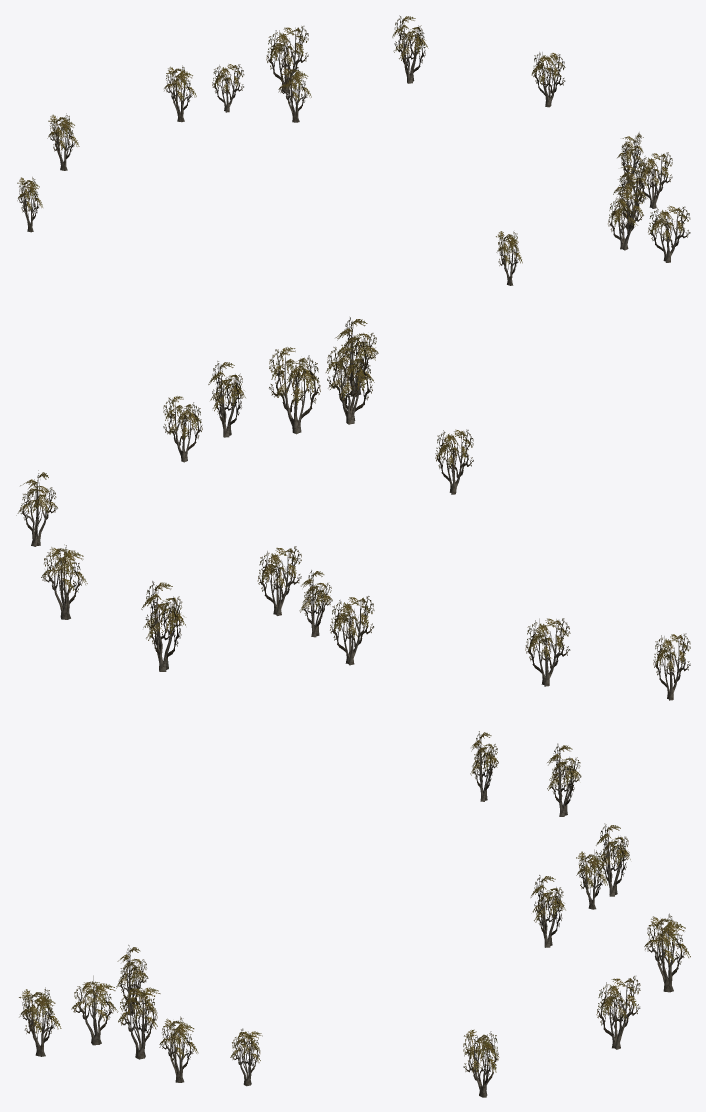
File: plants_birch_trees.fbx
3 views of the same model, one above another, from view 1: azimuth 30°, elevation 25°; view 2: azimuth 150°, elevation 25°; view 3: azimuth 270°, elevation 25° (orthographic). The views are drawn at different scales.
Visible parts, largest first — view 1: plants_birch_trees-0; view 2: plants_birch_trees-0; view 3: plants_birch_trees-0.
Boxes of the visible parts, box(x1,y1,x2,y2) form: plants_birch_trees-0: box(17, 15, 690, 285); plants_birch_trees-0: box(16, 317, 690, 700); plants_birch_trees-0: box(19, 731, 690, 1097).
Bounding box in the file's own units: 93.42 × 16.27 × 86.21.
